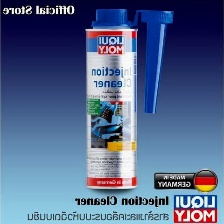aerosol_cans: (82, 4, 143, 195)
